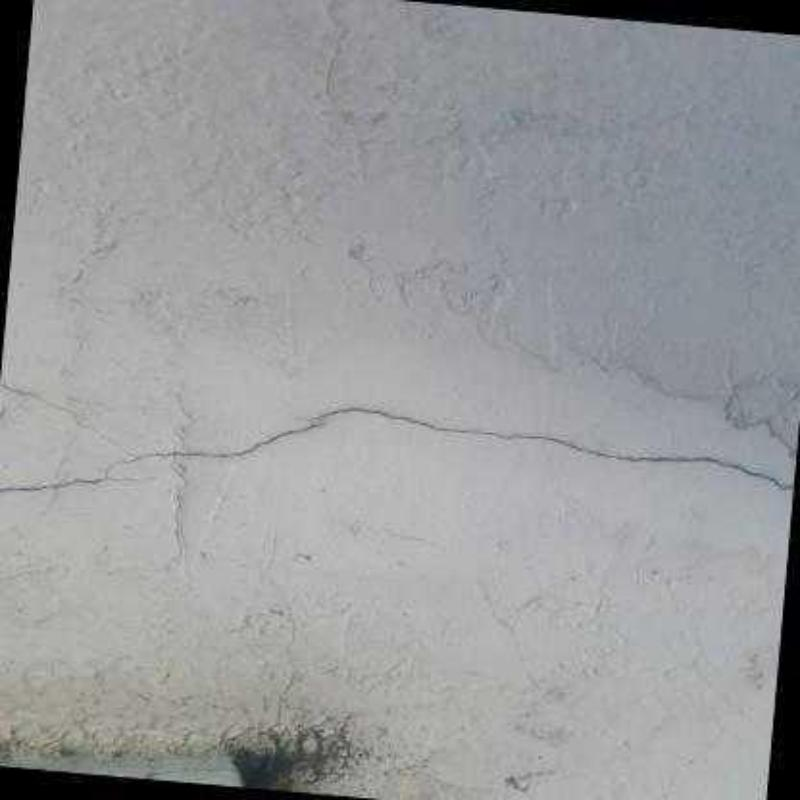crack: (0, 409, 794, 497)
